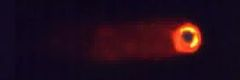keyhole: (181, 28, 196, 46)
